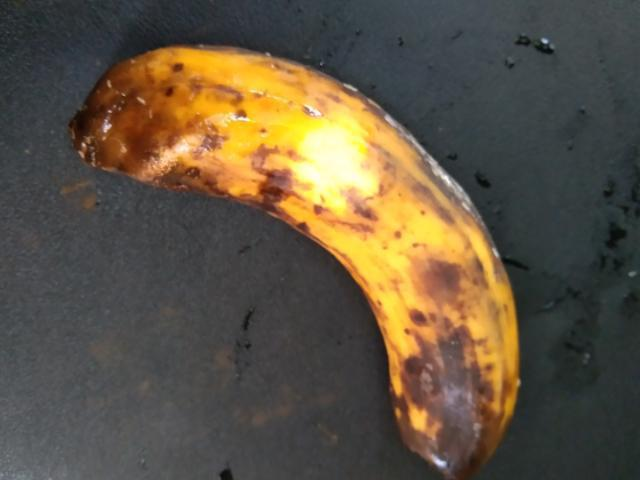rotten: (82, 43, 553, 479)
